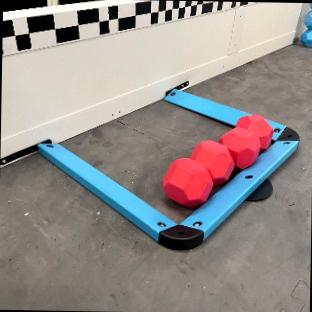V5_BLUE: (300, 3, 312, 46)
V5_RED: (165, 115, 271, 205)
